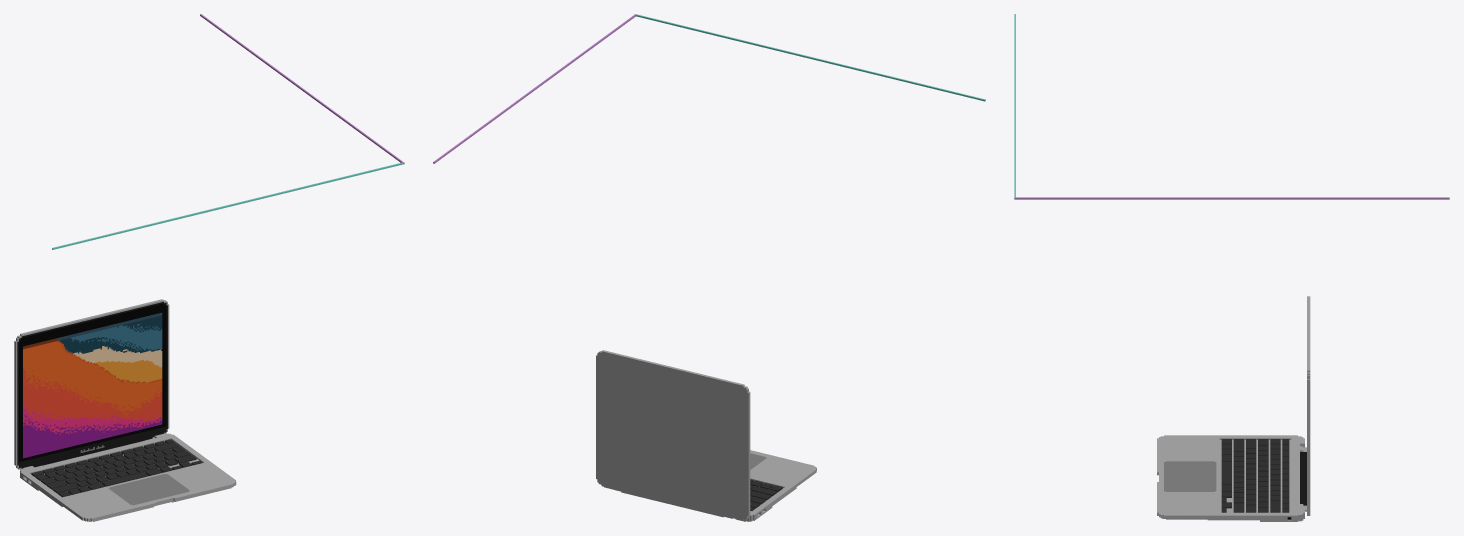
Rendered from macbook.gltf.
The picture shows the model from 3 angles, left to right: view 1: azimuth 30°, elevation 25°; view 2: azimuth 150°, elevation 25°; view 3: azimuth 270°, elevation 25°; orthographic projection. The views are drawn at different scales.
Parts seen in each view (by area): view 1: macbook.001; view 2: macbook.001; view 3: macbook.001.
Part boxes in pixels (left/top/right/bottom): macbook.001: left=14, top=14, right=404, bottom=521; macbook.001: left=433, top=14, right=985, bottom=521; macbook.001: left=1014, top=14, right=1449, bottom=521.
Bounding box in the file's own units: 25 × 23.8 × 25.
Materials: 1 (1 with a texture image).
